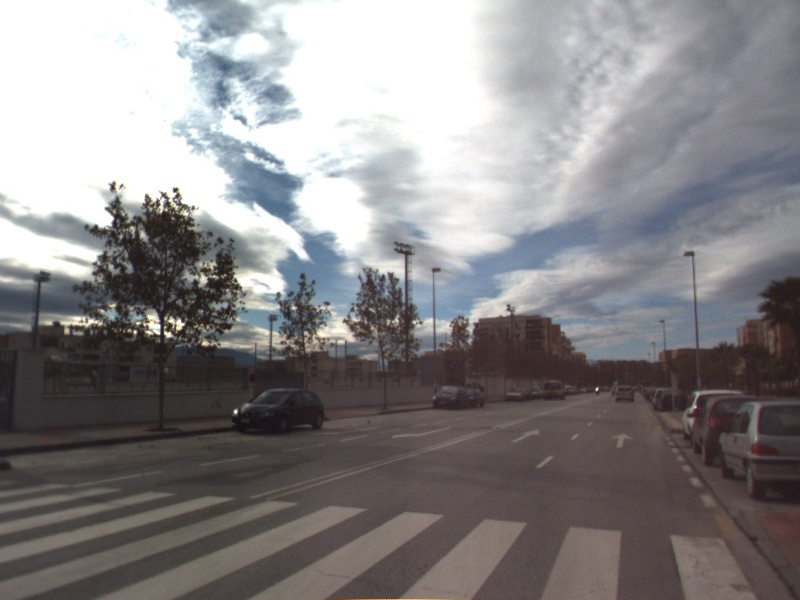STRAIGHT: (509, 427, 543, 444), (609, 431, 636, 450)
